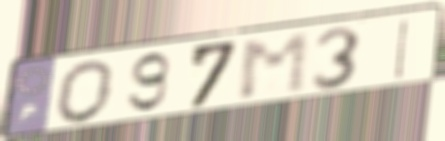3: (309, 24, 365, 92)
7: (185, 39, 241, 112)
9: (122, 52, 174, 116)
I: (391, 16, 413, 83)
M: (237, 29, 313, 104)
O: (54, 57, 119, 126)
